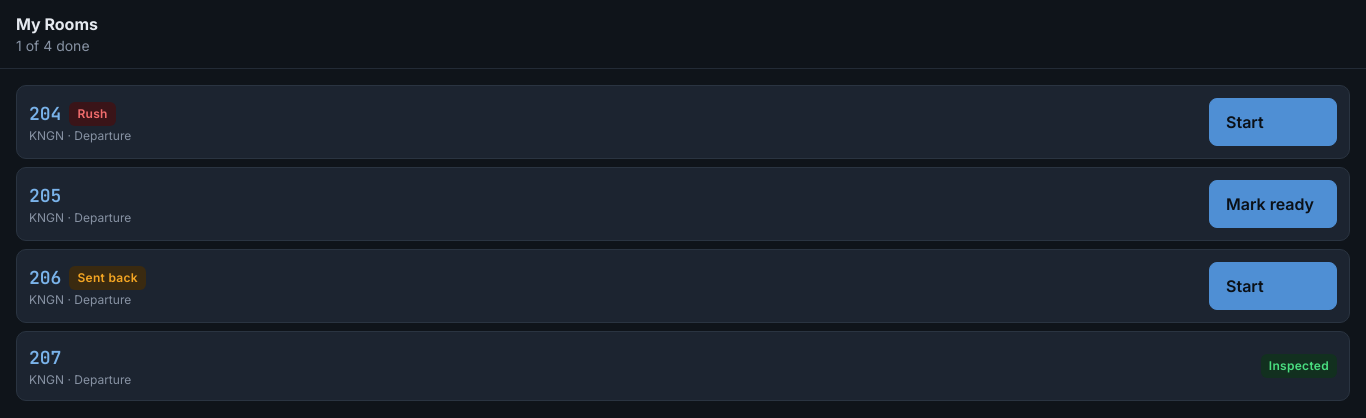
Test case: MyRoomsPage › opens a room full screen with the failed-back note
Step 1. Click the button with aria-label "Open room 206" → x=45, y=278, box [29,264,1197,308]
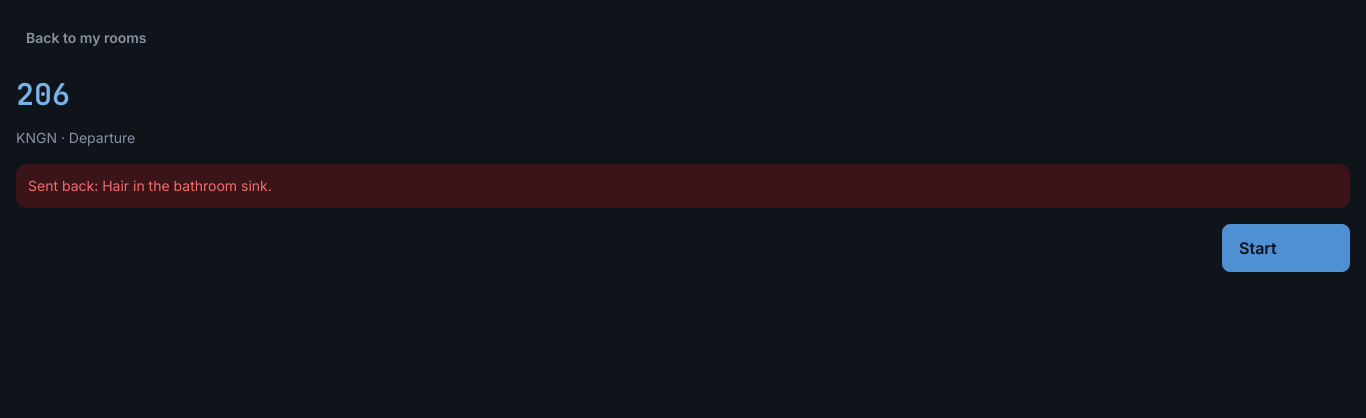
Expected: the text "Sent back: Hair in the bathroom sink." is shown, [16,164,1350,208]
Expected: the button "Back to my rooms" is shown, [16,16,156,60]
